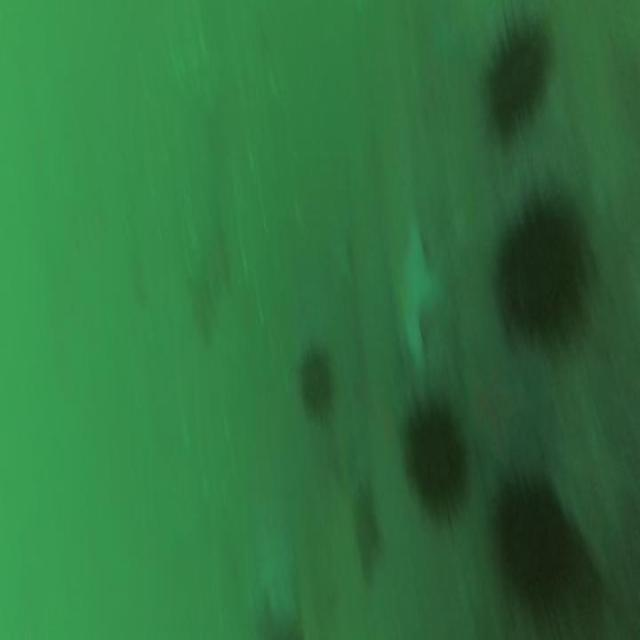echinus: (488, 453, 610, 640), (486, 172, 600, 368), (388, 376, 473, 536), (476, 8, 560, 147), (294, 340, 335, 422)
starfish: (392, 229, 447, 378), (350, 479, 383, 588)
